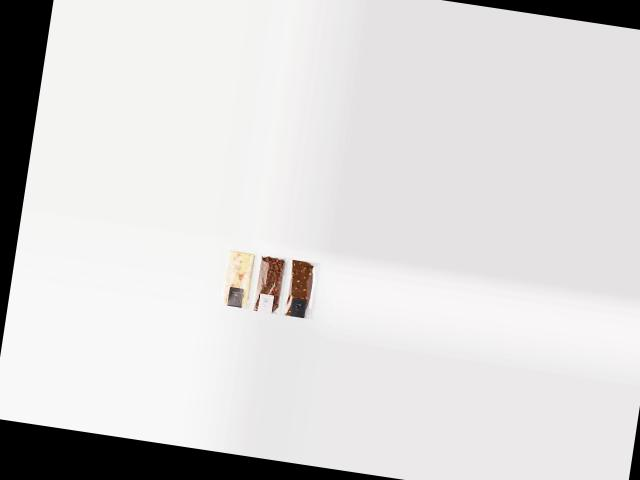chocolate: (285, 257, 320, 319)
